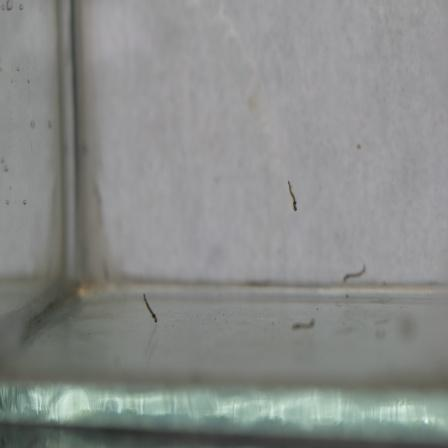Jentik-Nyamuk: (138, 291, 161, 328), (285, 176, 302, 215)
